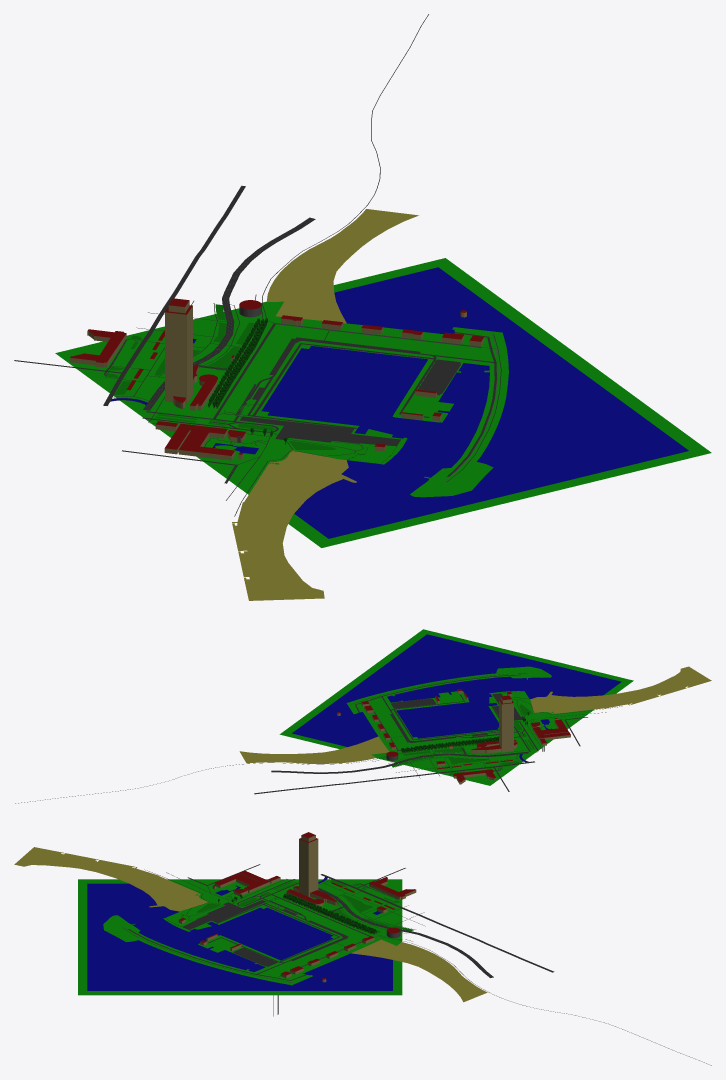
Rendered from LaVilaOlympica.obj.
3 views of the same model, one above another, from view 1: azimuth 30°, elevation 25°; view 2: azimuth 150°, elevation 25°; view 3: azimuth 270°, elevation 25° (orthographic). The views are drawn at different scales.
Visible parts, largest first — view 1: Water373, SurfaceArea Platja del Somorrostro, SurfaceArea422, object 389, SurfaceArea423, SurfaceArea425, SurfaceArea421, SurfaceArea424, SurfaceArea426, Building Torre Mapfre, RoadArea Moll de Marina, SurfaceArea427 (+5 smaller); view 2: Water373, SurfaceArea Platja del Somorrostro, SurfaceArea423, SurfaceArea422, object 389, SurfaceArea425, SurfaceArea421, SurfaceArea424, SurfaceArea426, Building Torre Mapfre, Road Avinguda del Litoral, SurfaceArea427 (+4 smaller); view 3: Water373, SurfaceArea Platja del Somorrostro, SurfaceArea422, SurfaceArea423, object 389, SurfaceArea425, SurfaceArea421, SurfaceArea426, SurfaceArea424, Building Torre Mapfre, RoadArea Moll de Marina, SurfaceArea427 (+5 smaller).
Part boxes in pixels (left/top/right/bottom): Water373: left=261, top=267, right=688, bottom=538; SurfaceArea Platja del Somorrostro: left=232, top=450, right=356, bottom=600; SurfaceArea422: left=118, top=355, right=384, bottom=472; object 389: left=266, top=209, right=418, bottom=323; SurfaceArea423: left=55, top=310, right=292, bottom=397; SurfaceArea425: left=294, top=327, right=508, bottom=421; SurfaceArea421: left=219, top=433, right=498, bottom=547; SurfaceArea424: left=431, top=403, right=675, bottom=504; SurfaceArea426: left=233, top=266, right=417, bottom=354; Building Torre Mapfre: left=165, top=298, right=192, bottom=403; RoadArea Moll de Marina: left=240, top=416, right=400, bottom=446; SurfaceArea427: left=595, top=378, right=711, bottom=461; Water373: left=292, top=634, right=621, bottom=746; SurfaceArea Platja del Somorrostro: left=530, top=666, right=711, bottom=713; SurfaceArea423: left=395, top=738, right=522, bottom=785; SurfaceArea422: left=428, top=699, right=578, bottom=761; object 389: left=239, top=736, right=389, bottom=763; SurfaceArea425: left=347, top=683, right=469, bottom=737; SurfaceArea421: left=489, top=657, right=633, bottom=720; SurfaceArea424: left=425, top=634, right=537, bottom=692; SurfaceArea426: left=299, top=724, right=426, bottom=762; Building Torre Mapfre: left=499, top=695, right=513, bottom=752; Road Avinguda del Litoral: left=271, top=751, right=528, bottom=773; SurfaceArea427: left=368, top=629, right=441, bottom=671; Water373: left=87, top=883, right=392, bottom=990; SurfaceArea Platja del Somorrostro: left=14, top=847, right=208, bottom=911; SurfaceArea422: left=202, top=879, right=327, bottom=931; SurfaceArea423: left=327, top=879, right=402, bottom=931; object 389: left=351, top=939, right=487, bottom=1002; SurfaceArea425: left=202, top=932, right=327, bottom=984; SurfaceArea421: left=78, top=879, right=202, bottom=931; SurfaceArea426: left=327, top=932, right=402, bottom=984; SurfaceArea424: left=78, top=932, right=202, bottom=984; Building Torre Mapfre: left=299, top=832, right=318, bottom=896; RoadArea Moll de Marina: left=182, top=900, right=265, bottom=929; SurfaceArea427: left=78, top=984, right=202, bottom=995.
Size of the model in its own units: 1245 by 254 by 1677.
